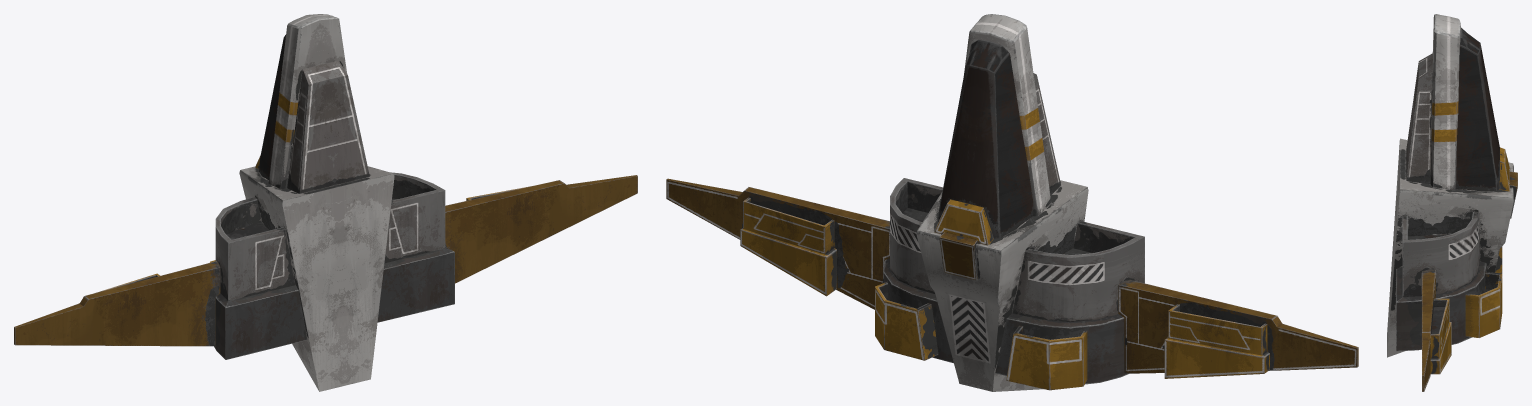
File: BobPositionFixed.fbx
3 views of the same model, side by side, from view 1: azimuth 30°, elevation 25°; view 2: azimuth 150°, elevation 25°; view 3: azimuth 270°, elevation 25° (orthographic). The views are drawn at different scales.
Visible parts, largest first — view 1: Bob; view 2: Bob; view 3: Bob.
Boxes of the visible parts, x1,y1,x2,y2 form: Bob: (14, 14, 637, 391); Bob: (666, 14, 1358, 391); Bob: (1387, 14, 1517, 391).
Bounding box in the file's own units: 1050 × 561 × 204.
